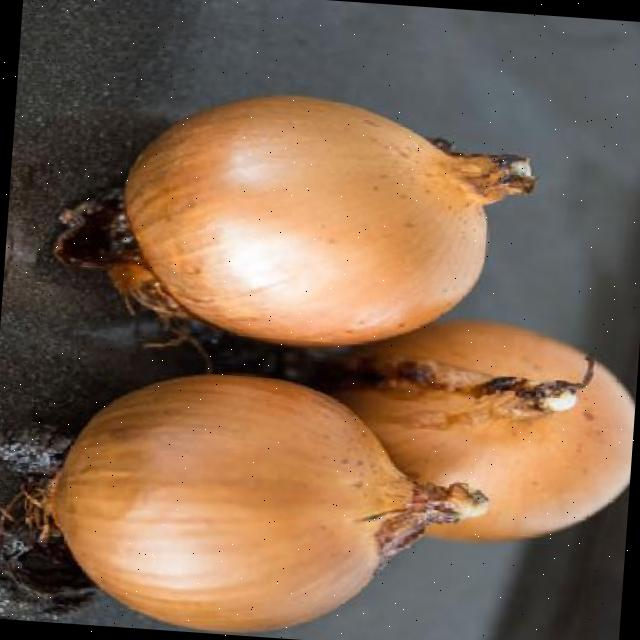Onion: (47, 375, 488, 633), (121, 95, 533, 346), (332, 322, 635, 543)
